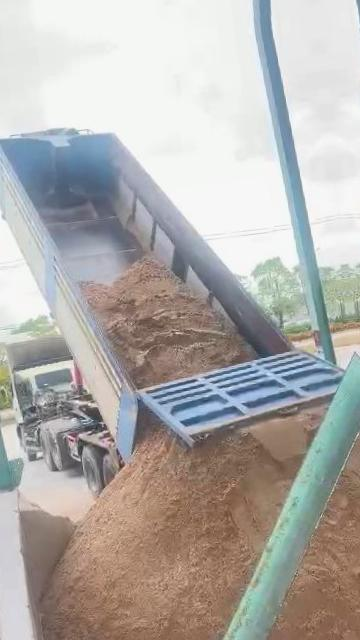sand: (23, 409, 324, 640), (247, 435, 360, 640), (84, 259, 255, 387)
